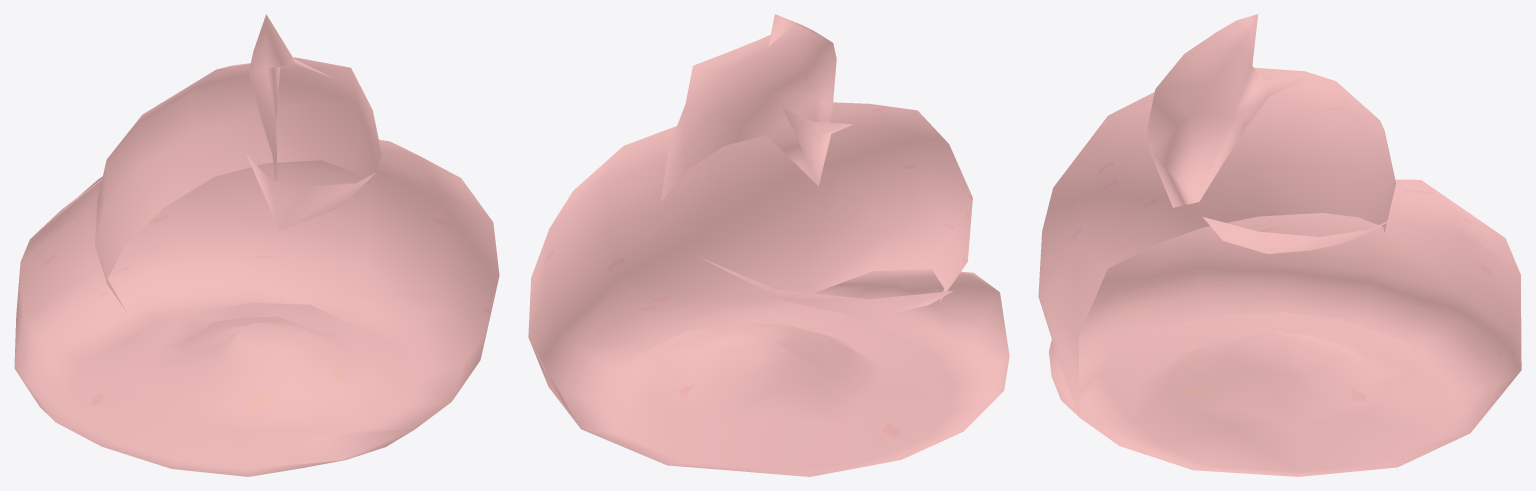
The model's file is ps2_save-icons_akudaikan3.glb.
The picture shows the model from 3 angles, left to right: view 1: azimuth 30°, elevation 25°; view 2: azimuth 150°, elevation 25°; view 3: azimuth 270°, elevation 25°; orthographic projection. The views are drawn at different scales.
Visible parts, largest first — view 1: ic0.ico; view 2: ic0.ico; view 3: ic0.ico.
Part boxes in pixels (x1,y1,x2,y2): ic0.ico: (14,14,499,476); ic0.ico: (528,14,1009,476); ic0.ico: (1038,14,1521,476).
Bounding box in the file's own units: 4.39 × 3.79 × 4.29.
1 material, 1 textured.
